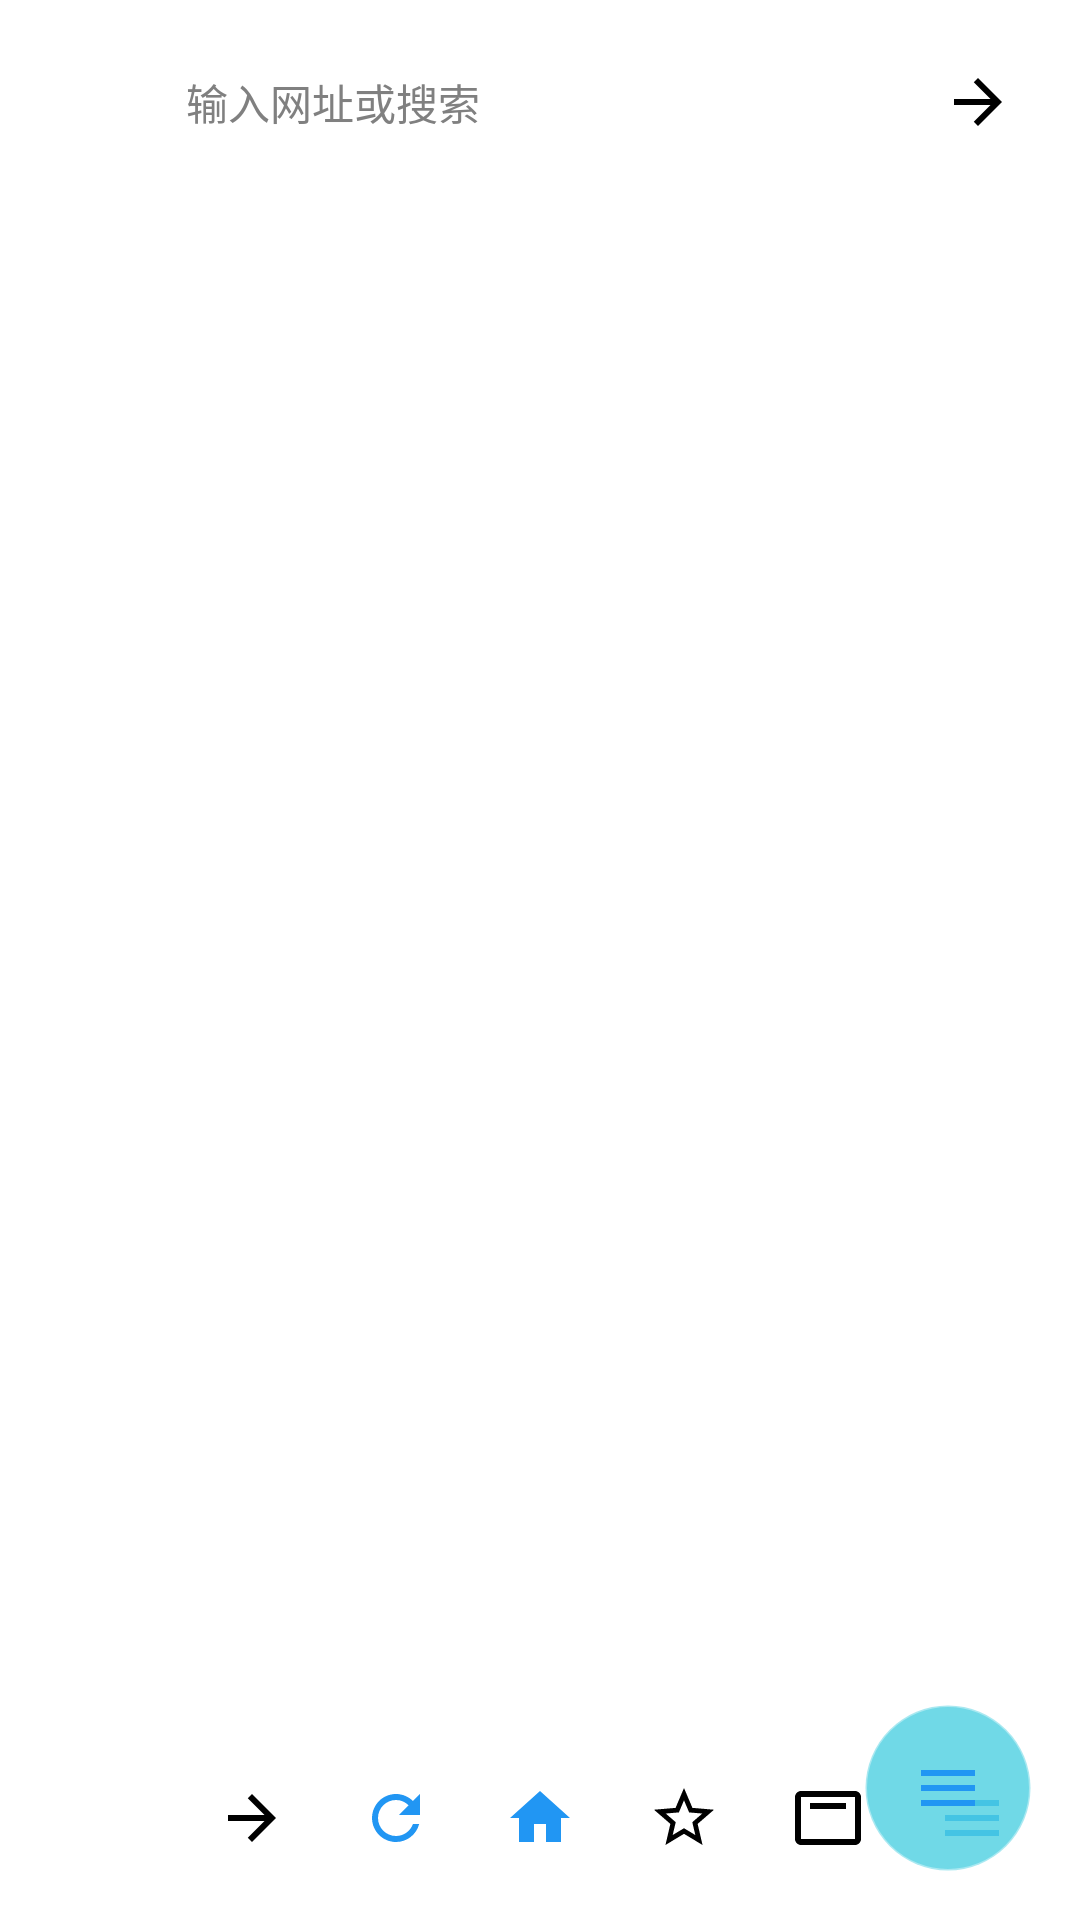

Icon bounding boxes for this 1080w x 1920h phone screenshot, format {"x1": x1, "y1": y1, "x2": x2, "y2": y2}:
主页: {"x1": 510, "y1": 1791, "x2": 570, "y2": 1842}
刷新: {"x1": 372, "y1": 1794, "x2": 420, "y2": 1842}
前往: {"x1": 954, "y1": 78, "x2": 1002, "y2": 126}
前进: {"x1": 228, "y1": 1794, "x2": 276, "y2": 1842}
添加书签: {"x1": 654, "y1": 1788, "x2": 714, "y2": 1845}
